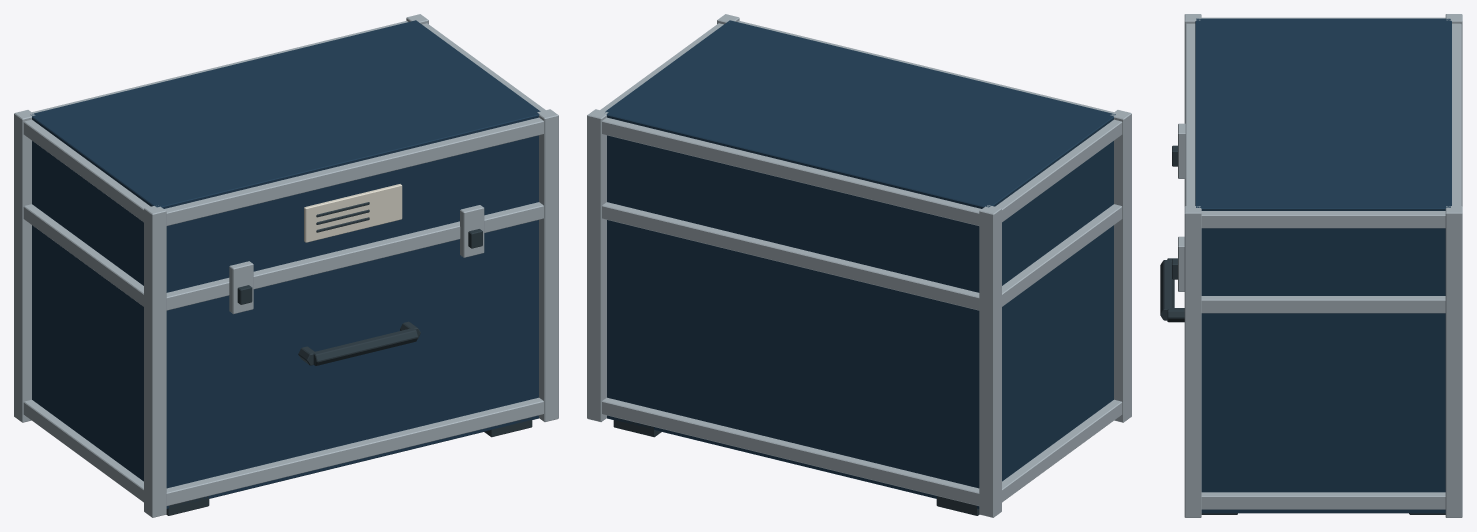
Rendered from b14_reinforced_shipping_flight_case.glb.
3 renders of one model, left to right at view 1: azimuth 30°, elevation 25°; view 2: azimuth 150°, elevation 25°; view 3: azimuth 270°, elevation 25°, orthographic.
Parts seen in each view (by area): view 1: b14_reinforced_shipping_flight_case; view 2: b14_reinforced_shipping_flight_case; view 3: b14_reinforced_shipping_flight_case.
Part boxes in pixels (left/top/right/bottom): b14_reinforced_shipping_flight_case: left=14, top=14, right=558, bottom=517; b14_reinforced_shipping_flight_case: left=587, top=14, right=1131, bottom=517; b14_reinforced_shipping_flight_case: left=1160, top=14, right=1462, bottom=517.
Size of the model in its own units: 0.882 by 0.645 by 0.5652.
